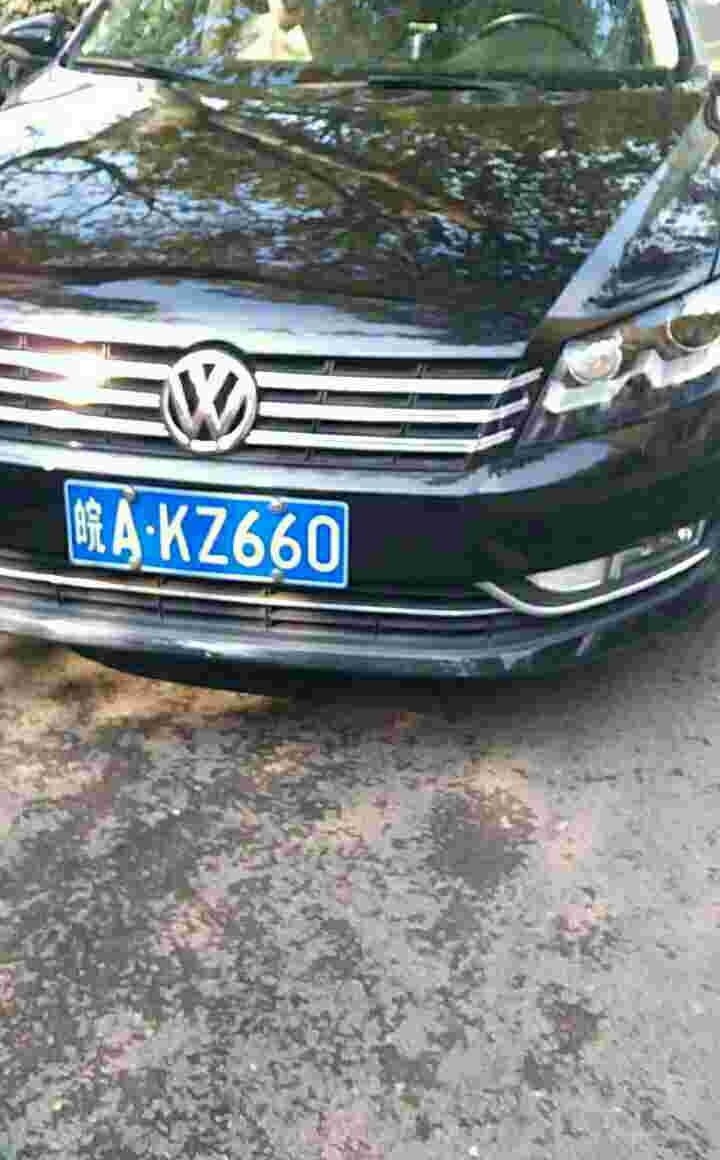car: (64, 475, 355, 591)
